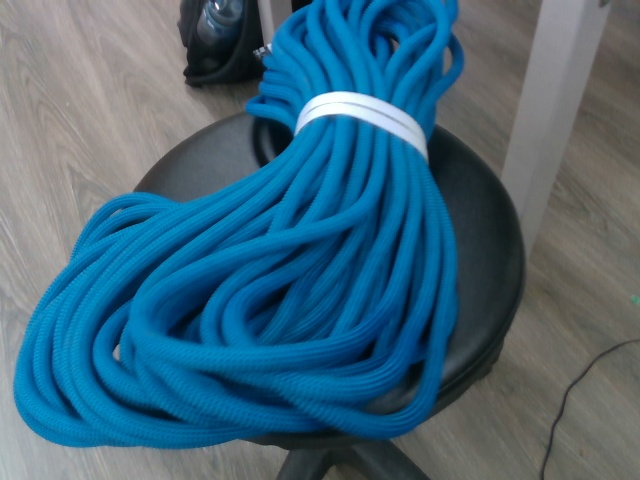rope: (12, 1, 471, 451)
